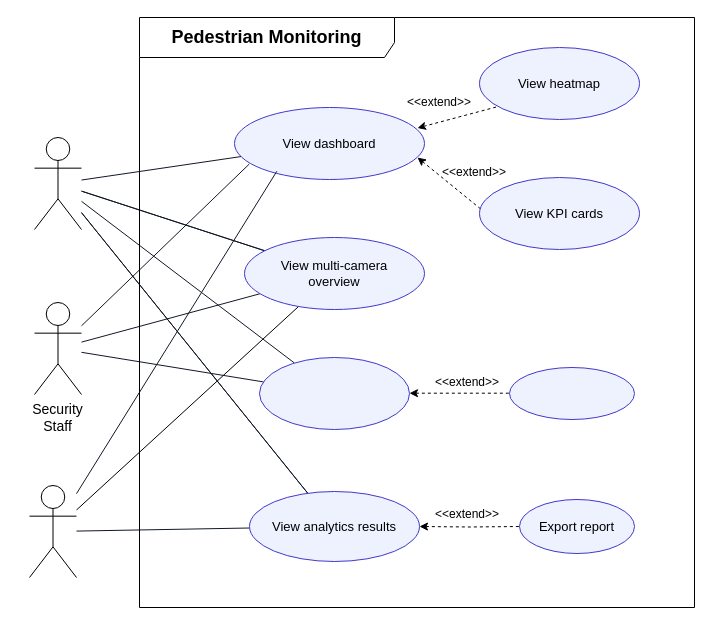
Image size: 712x625. Some labels were removed from this diagram. The shapes that lost their labels are listed below. From the top down, each one's centre as x and y in pixels, then its label:
At (58,183): "Administrator".
At (334,393): "Manage alerts".
At (571,393): "Acknowledge alert".
At (52,531): "Analyst".
